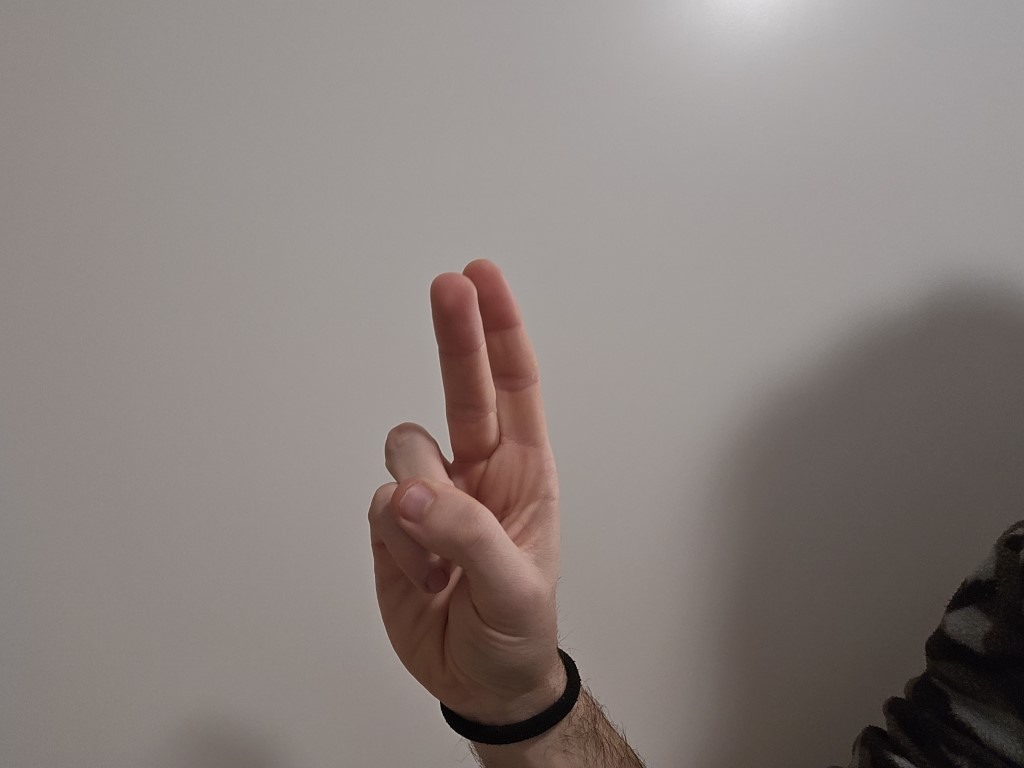r: (317, 255, 593, 693)
